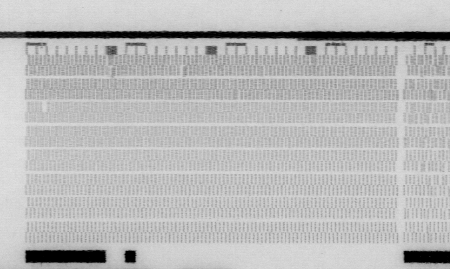Broken hole: (39, 100, 51, 114)
Oblique printing: (406, 52, 450, 126), (103, 55, 118, 79), (177, 65, 191, 78), (306, 54, 319, 68), (230, 88, 244, 100)
